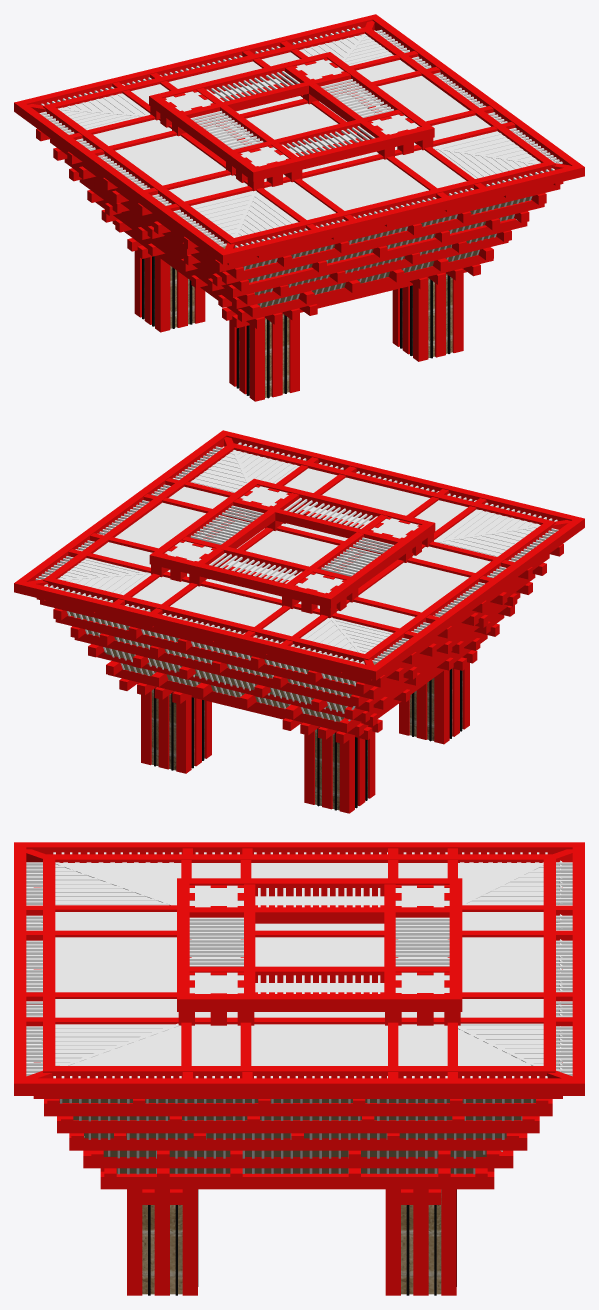
File: ShiBoGuan.fbx
3 views of the same model, one above another, from view 1: azimuth 30°, elevation 25°; view 2: azimuth 150°, elevation 25°; view 3: azimuth 270°, elevation 25° (orthographic). The views are drawn at different scales.
Visible parts, largest first — view 1: Rectangle381; view 2: Rectangle381; view 3: Rectangle381.
Part boxes in pixels (box(x1,y1,x2,y2)): Rectangle381: box(14, 14, 584, 401); Rectangle381: box(14, 430, 584, 813); Rectangle381: box(14, 842, 584, 1295).
Bounding box in the file's own units: 0.0586 × 0.0328 × 0.0586.
Materials: 5 (1 with a texture image).
